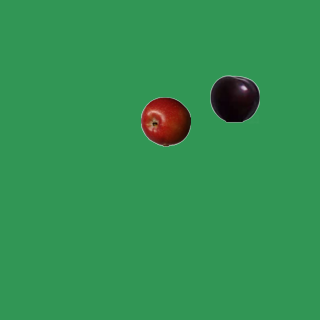Apple Braeburn: (140, 96, 190, 146)
Cherry Wax Black: (209, 73, 259, 123)
